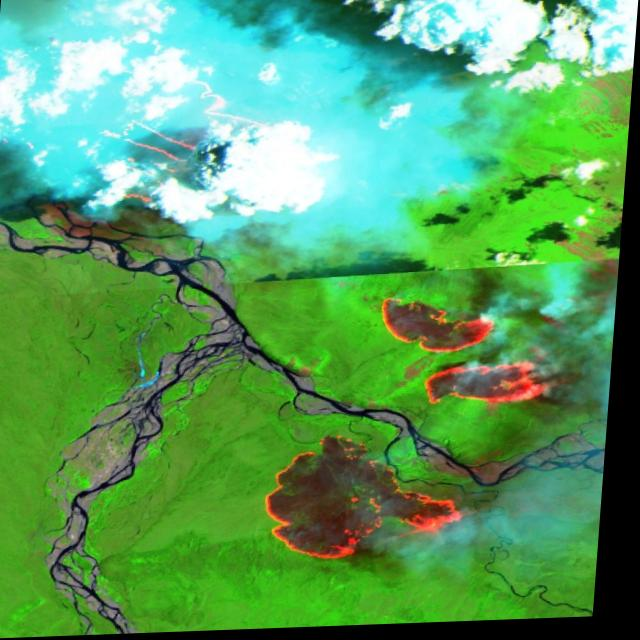fire: (109, 74, 337, 226), (265, 428, 491, 576), (374, 294, 564, 414)
